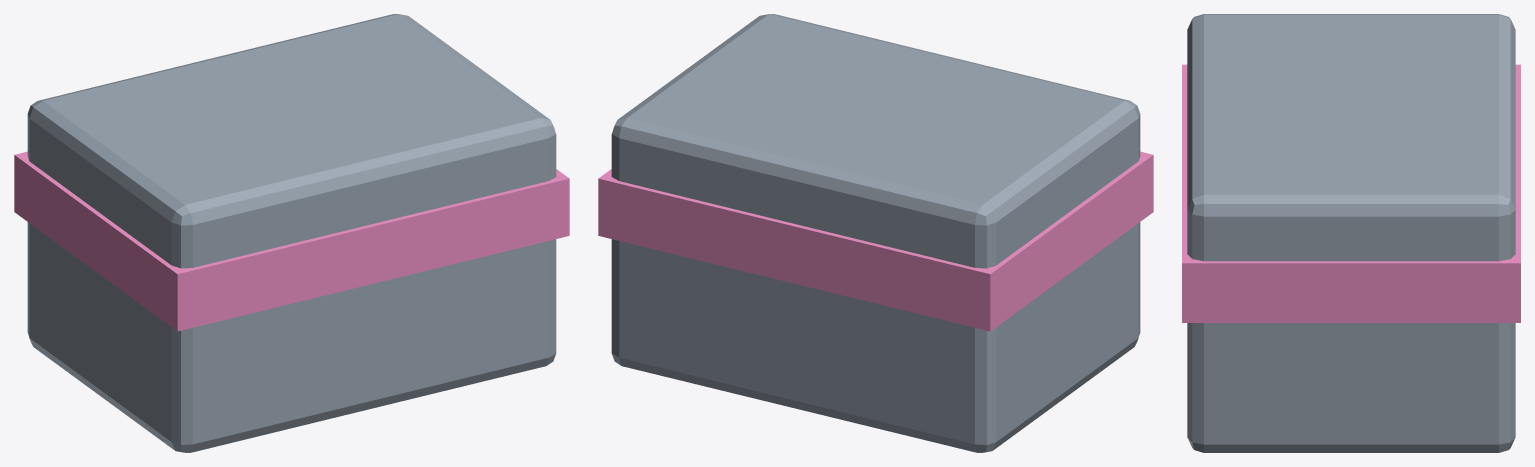
The model's file is Pieza0.fbx.
The picture shows the model from 3 angles, left to right: view 1: azimuth 30°, elevation 25°; view 2: azimuth 150°, elevation 25°; view 3: azimuth 270°, elevation 25°; orthographic projection. The views are drawn at different scales.
Parts seen in each view (by area): view 1: Cuerpo, Color; view 2: Cuerpo, Color; view 3: Cuerpo, Color.
Part boxes in pixels (x1,y1,x2,y2): Cuerpo: (27,14,556,452); Color: (14,151,569,331); Cuerpo: (611,14,1140,452); Color: (598,151,1153,331); Cuerpo: (1187,14,1515,452); Color: (1182,64,1520,322).
Size of the model in its own units: 0.43 by 0.26 by 0.31.
